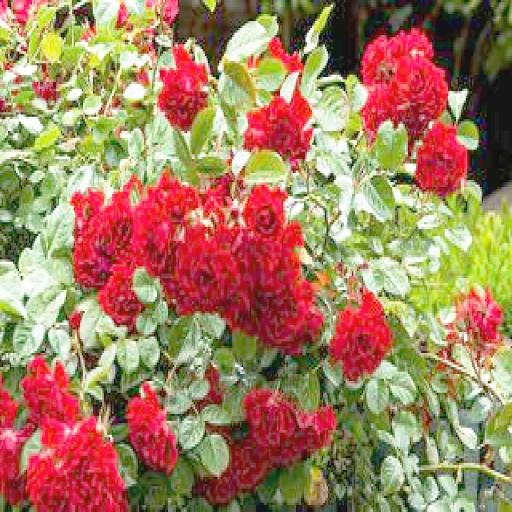rose: (326, 286, 394, 384), (176, 234, 235, 313), (128, 384, 179, 468), (390, 56, 446, 129), (152, 49, 205, 126), (414, 120, 466, 196), (22, 353, 78, 423), (262, 89, 312, 161), (240, 180, 290, 250), (96, 262, 141, 330)
